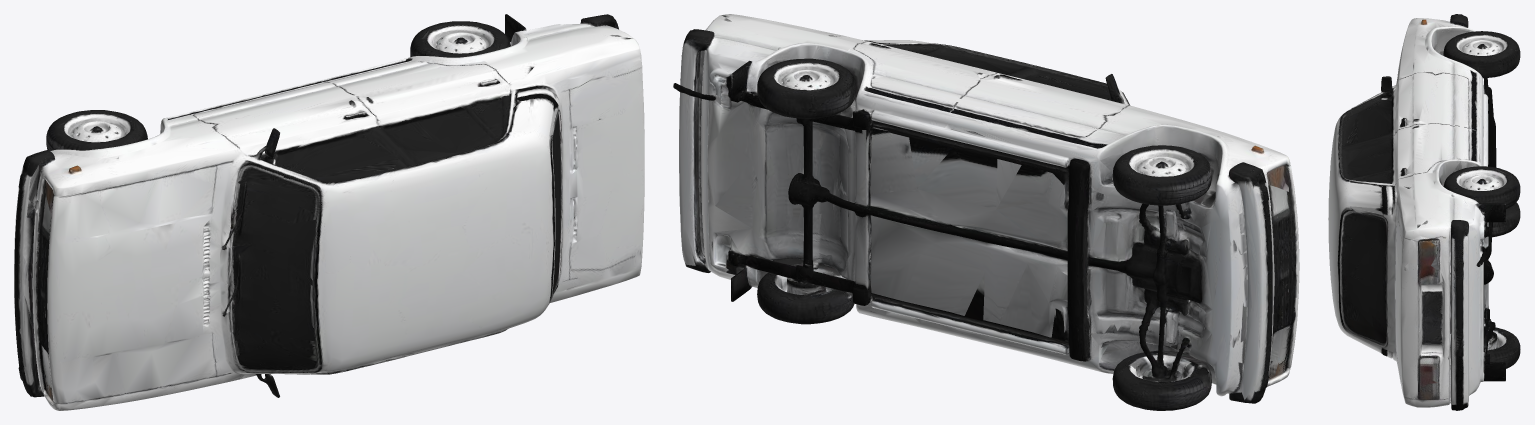
The model's file is vaz07.glb.
3 renders of one model, left to right at view 1: azimuth 30°, elevation 25°; view 2: azimuth 150°, elevation 25°; view 3: azimuth 270°, elevation 25°, orthographic. The views are drawn at different scales.
Visible parts, largest first — view 1: vaz07; view 2: vaz07; view 3: vaz07.
Part boxes in pixels (x1=…): vaz07: x1=14, y1=14, x2=644, y2=410; vaz07: x1=673, y1=14, x2=1299, y2=410; vaz07: x1=1328, y1=14, x2=1520, y2=410.
Bounding box in the file's own units: 4.15 × 1.75 × 1.5.
Materials: 1 (1 with a texture image).
